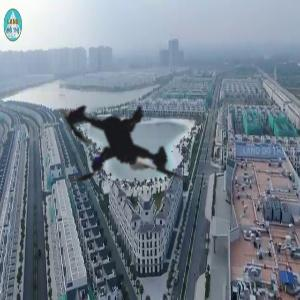drone: (9, 39, 234, 264)
